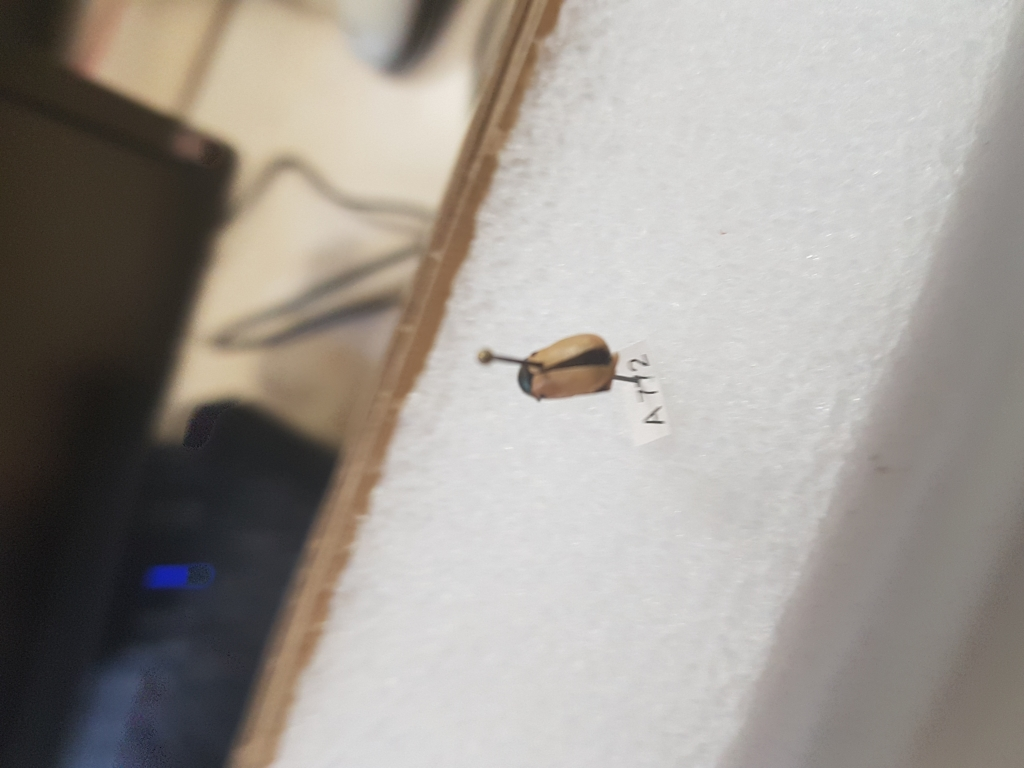Labidostomis_propinqua: (515, 335, 624, 410)
